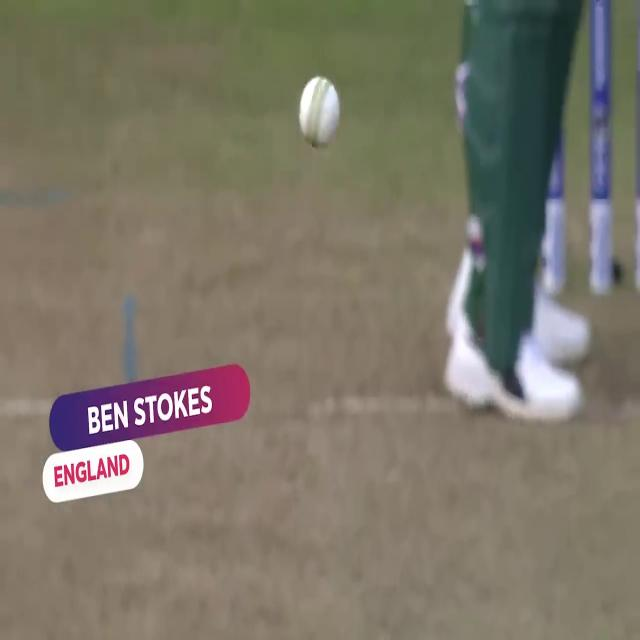ball: (296, 66, 341, 156)
